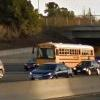Bus: (27, 33, 97, 66)
